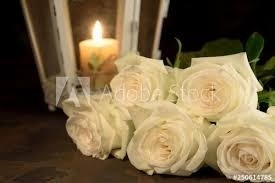fire: (89, 18, 103, 43)
